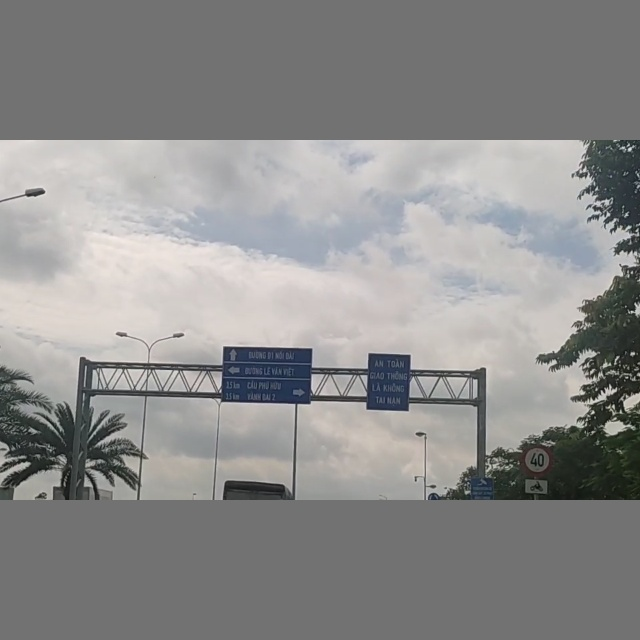P.127*40: (520, 443, 555, 477)
S.505a*Xe may: (523, 476, 550, 494)
